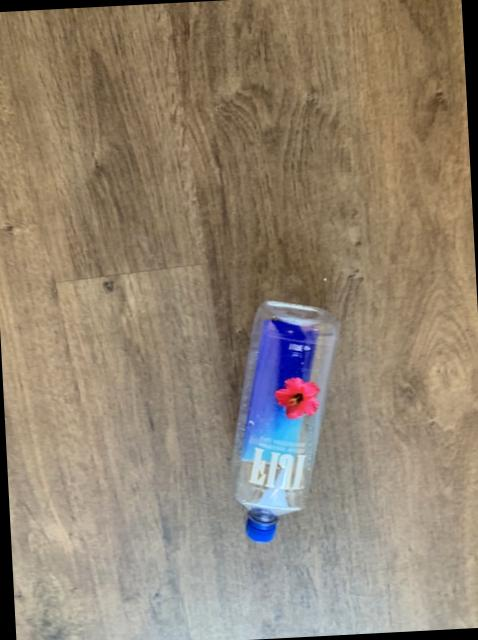plastic: (232, 303, 337, 544)
